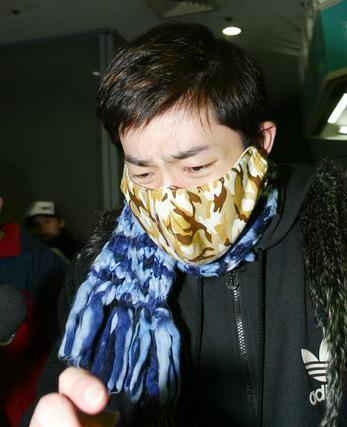NONE: (32, 218, 57, 240)
OK: (120, 133, 261, 263)
